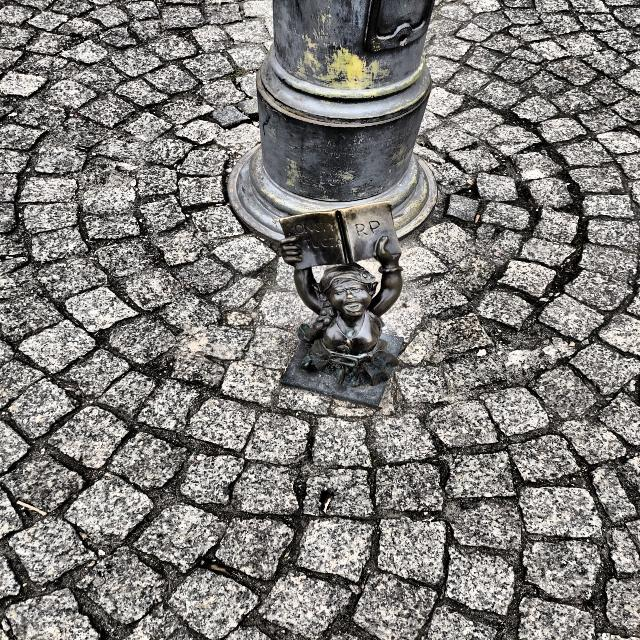Demokracja: (280, 201, 403, 408)
